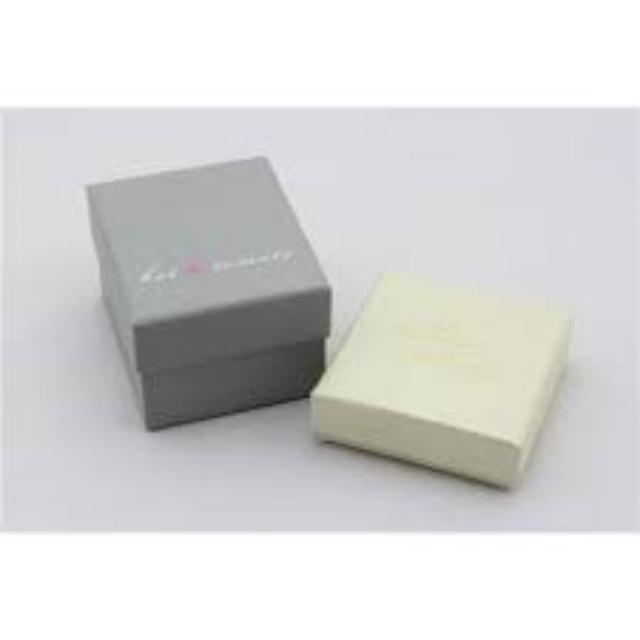cardboard paper: (85, 154, 324, 424), (310, 270, 563, 481)
